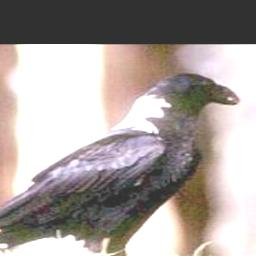Crow: (0, 65, 243, 256)
